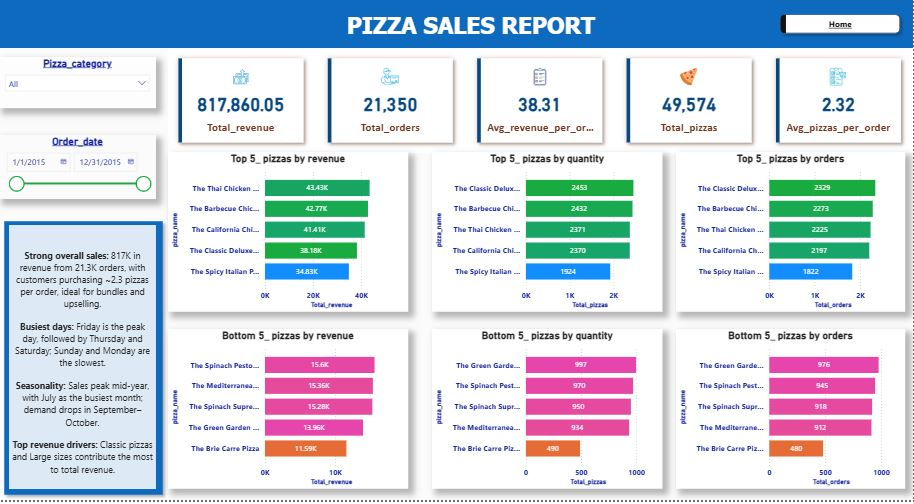

This screenshot's page, from the dashboard's own definition file:
{"tool":"powerbi","page":{"name":"Top & bottom sellers","canvas":[1500,820],"ordinal":1},"visuals":[{"type":"cardVisual","fields":{"Data":["pizza_sales.Total_revenue","pizza_sales.Total_orders","pizza_sales.Avg_revenue_per_order","pizza_sales.Total_pizzas","pizza_sales.Avg_pizzas_per_order"]},"box":[277.2,78.7,1223.4,172.2],"z":0},{"type":"shape","box":[0,0,1500,78.7],"z":1000},{"type":"textbox","box":[480.3,13.8,586.6,65],"z":2000},{"type":"shape","box":[0,354.2,277.2,465.8],"z":3000},{"type":"textbox","box":[16.4,369,241.1,433],"z":4000},{"type":"slicer","title":"Pizza_category","fields":{"Values":["pizza_sales.pizza_category"]},"box":[0,93.5,257.5,83.6],"z":5000},{"type":"slicer","title":"Order_date","fields":{"Values":["pizza_sales.order_date"]},"box":[0,221.4,257.5,105],"z":6000},{"type":"barChart","title":"Top 5_ pizzas by revenue","fields":{"Category":["pizza_sales.pizza_name"],"Y":["pizza_sales.Total_revenue"]},"box":[277.6,250,393.7,261.8],"z":7000},{"type":"barChart","title":"Bottom 5_ pizzas by revenue","fields":{"Category":["pizza_sales.pizza_name"],"Y":["pizza_sales.Total_revenue"]},"box":[277.6,539.4,393.7,261.8],"z":8000},{"type":"barChart","title":"Top 5_ pizzas by quantity","fields":{"Y":["pizza_sales.Total_pizzas"],"Category":["pizza_sales.pizza_name"]},"box":[710.6,250,378,261.8],"z":9000},{"type":"barChart","title":"Top 5_ pizzas by orders","fields":{"Y":["pizza_sales.Total_orders"],"Category":["pizza_sales.pizza_name"]},"box":[1110.2,250,376,261.8],"z":10000},{"type":"barChart","title":"Bottom 5_ pizzas by quantity","fields":{"Category":["pizza_sales.pizza_name"],"Y":["pizza_sales.Total_pizzas"]},"box":[710.6,539.4,378,261.8],"z":11000},{"type":"barChart","title":"Bottom 5_ pizzas by orders","fields":{"Category":["pizza_sales.pizza_name"],"Y":["pizza_sales.Total_orders"]},"box":[1110.2,539.4,376,261.8],"z":12000},{"type":"pageNavigator","box":[1272.6,14.8,214.8,49.2],"z":12001}]}

Visuals, with their boxes in screenshot pixels (x1, y1, x2, y2), scaled from the page's 1500x820 canvas onto the 914x504 screenshot:
cardVisual - pizza_sales.Total_revenue x pizza_sales.Total_orders: 169 48 913 154
shape: 0 0 913 48
textbox: 293 8 650 48
shape: 0 218 169 503
textbox: 10 227 157 493
"Pizza_category" slicer: 0 57 157 109
"Order_date" slicer: 0 136 157 201
"Top 5_ pizzas by revenue" barChart: 169 154 409 315
"Bottom 5_ pizzas by revenue" barChart: 169 332 409 492
"Top 5_ pizzas by quantity" barChart: 433 154 663 315
"Top 5_ pizzas by orders" barChart: 676 154 906 315
"Bottom 5_ pizzas by quantity" barChart: 433 332 663 492
"Bottom 5_ pizzas by orders" barChart: 676 332 906 492
pageNavigator: 775 9 906 39
